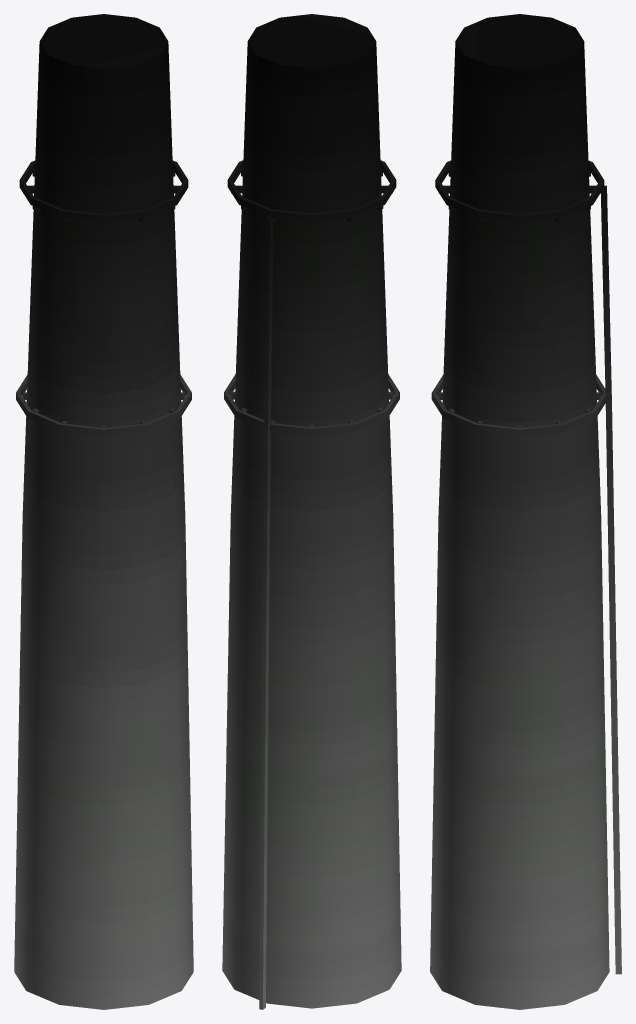
The picture shows the model from 3 angles, left to right: view 1: azimuth 30°, elevation 25°; view 2: azimuth 150°, elevation 25°; view 3: azimuth 270°, elevation 25°; orthographic projection.
Parts seen in each view (by area): view 1: body0_model0_lod0_mesh0; view 2: body0_model0_lod0_mesh0; view 3: body0_model0_lod0_mesh0.
Boxes of the visible parts, bbox=[...] form: body0_model0_lod0_mesh0: bbox=[14, 14, 193, 1009]; body0_model0_lod0_mesh0: bbox=[222, 14, 401, 1009]; body0_model0_lod0_mesh0: bbox=[430, 14, 621, 1009].
Size of the model in its own units: 13.5 by 77.31 by 14.42.
1 material, 1 textured.
